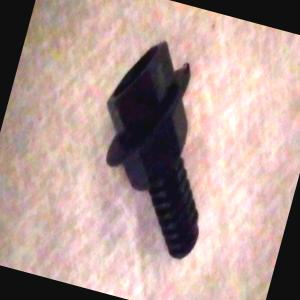parafuso: (95, 34, 207, 274)
